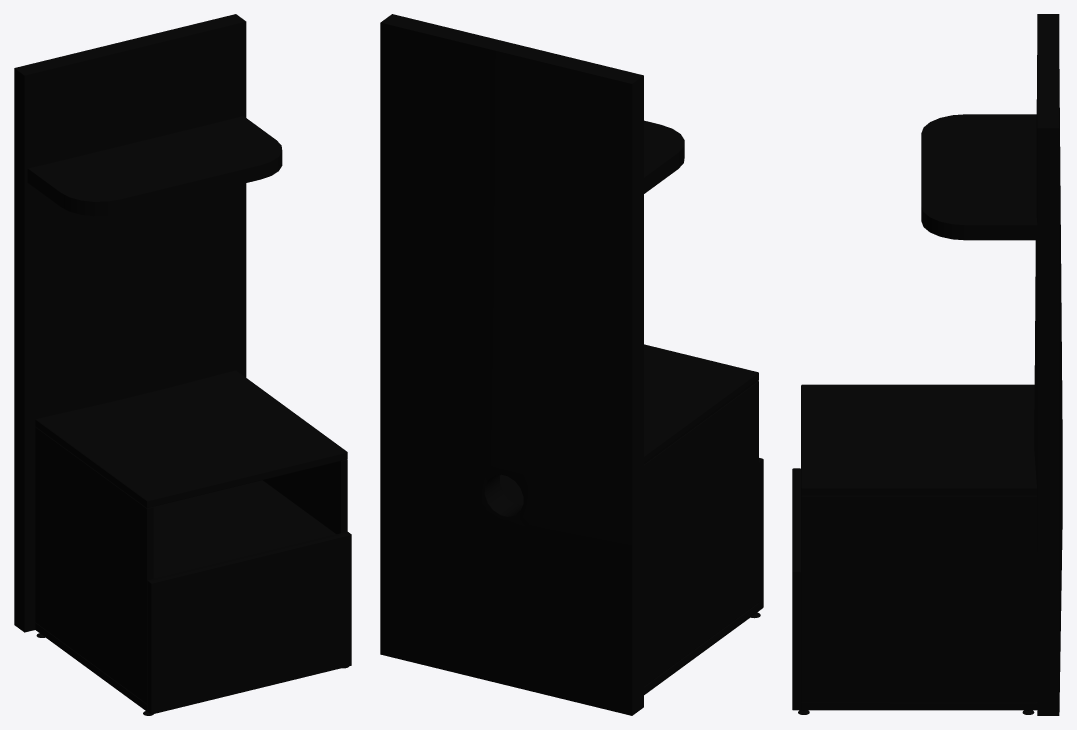
3 views of the same model, side by side, from view 1: azimuth 30°, elevation 25°; view 2: azimuth 150°, elevation 25°; view 3: azimuth 270°, elevation 25° (orthographic). The views are drawn at different scales.
Parts seen in each view (by area): view 1: XlUITqx475B3B4348BC4A57_low; view 2: XlUITqx475B3B4348BC4A57_low; view 3: XlUITqx475B3B4348BC4A57_low.
Boxes of the visible parts, left/top/right/bottom form: XlUITqx475B3B4348BC4A57_low: left=14, top=14, right=351, bottom=715; XlUITqx475B3B4348BC4A57_low: left=380, top=14, right=763, bottom=715; XlUITqx475B3B4348BC4A57_low: left=792, top=14, right=1062, bottom=715.
Size of the model in its own units: 0.46 by 1.11 by 0.46.
1 material, 1 textured.
